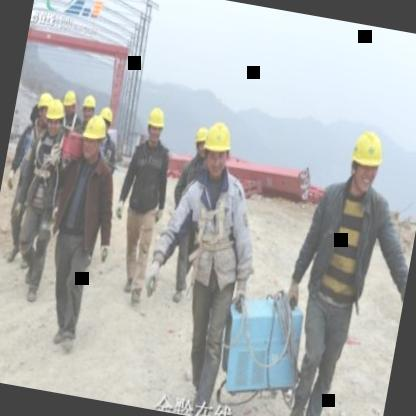helmet: (340, 116, 392, 203), (194, 116, 236, 178), (81, 110, 111, 158), (142, 100, 170, 144), (42, 96, 70, 140), (30, 86, 56, 127), (76, 89, 98, 123), (188, 124, 210, 157), (59, 86, 79, 121), (96, 100, 114, 134)
